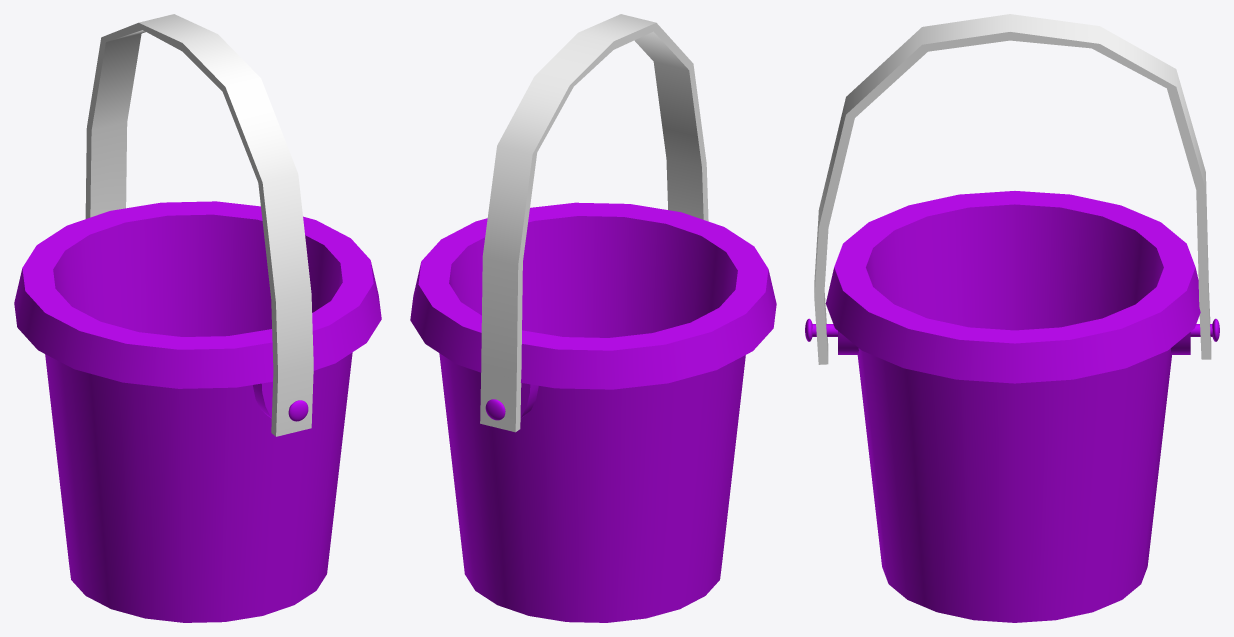
Rendered from Sand bucket (1).fbx.
3 views of the same model, side by side, from view 1: azimuth 30°, elevation 25°; view 2: azimuth 150°, elevation 25°; view 3: azimuth 270°, elevation 25° (orthographic). The views are drawn at different scales.
Visible parts, largest first — view 1: pCylinder9, pCube1; view 2: pCylinder9, pCube1; view 3: pCylinder9, pCube1.
Boxes of the visible parts, x1,y1,x2,y2 form: pCylinder9: [14, 201, 381, 622]; pCube1: [85, 14, 313, 436]; pCylinder9: [410, 202, 776, 622]; pCube1: [480, 14, 708, 432]; pCylinder9: [805, 191, 1219, 622]; pCube1: [814, 14, 1211, 364].
Size of the model in its own units: 3.11 by 4.97 by 3.41.
